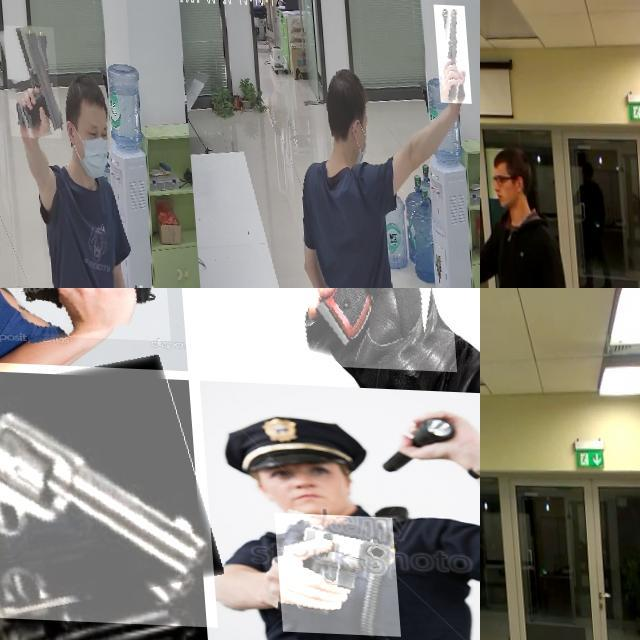gun-knife-thesis - v11 Yolov5 augmented: (0, 357, 209, 624), (252, 288, 452, 419), (0, 514, 198, 640), (0, 288, 166, 386), (267, 509, 392, 632), (2, 24, 59, 137), (433, 0, 470, 98), (480, 188, 503, 262), (480, 561, 502, 605)
